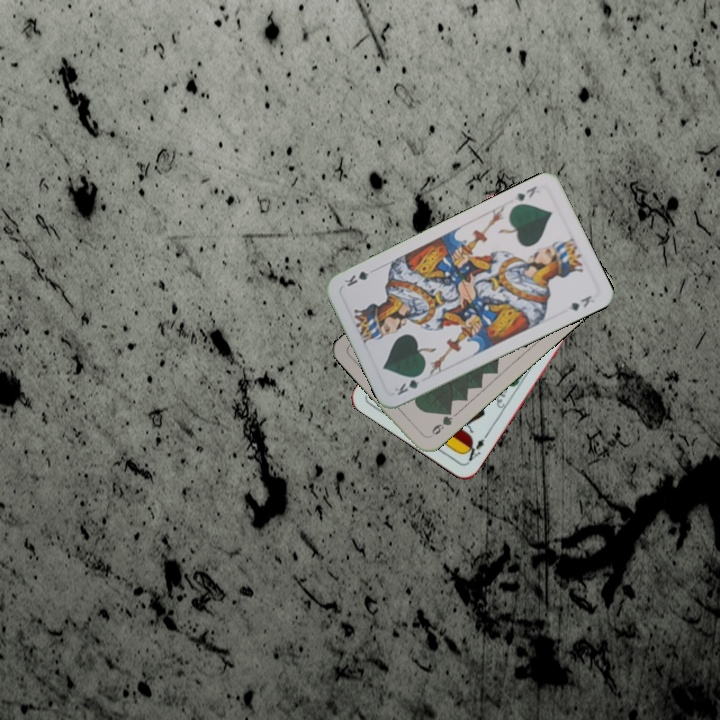EA: (460, 429, 491, 466)
G9: (425, 406, 455, 440)
GK: (390, 369, 426, 398), (510, 182, 539, 204)
